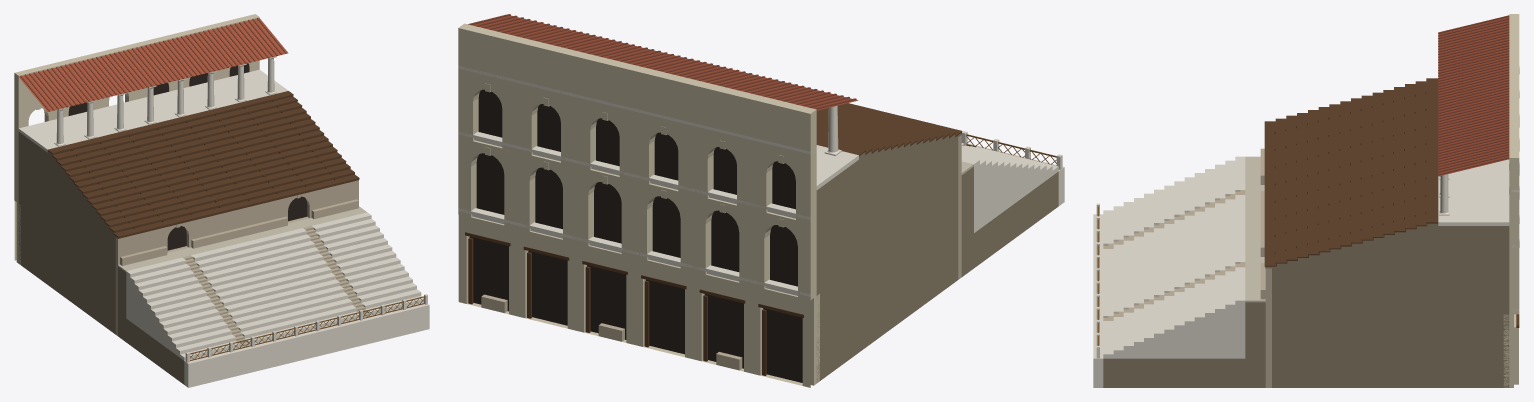
Rendered from rome_cavea_s.glb.
The picture shows the model from 3 angles, left to right: view 1: azimuth 30°, elevation 25°; view 2: azimuth 150°, elevation 25°; view 3: azimuth 270°, elevation 25°; orthographic projection. The views are drawn at different scales.
Visible parts, largest first — view 1: rome_cavea_s; view 2: rome_cavea_s; view 3: rome_cavea_s.
Part boxes in pixels (<box>): rome_cavea_s: <box>14,14,429,387</box>; rome_cavea_s: <box>458,14,1064,387</box>; rome_cavea_s: <box>1093,14,1519,387</box>.
Size of the model in its own units: 33.6 by 25 by 42.03.
